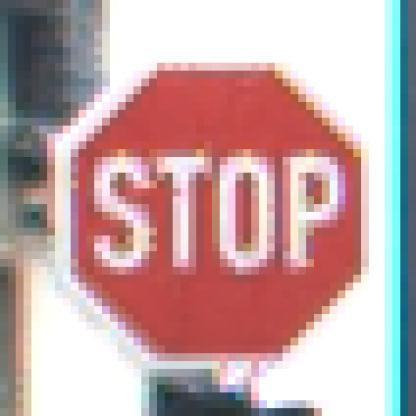Stop: (63, 60, 367, 366)
